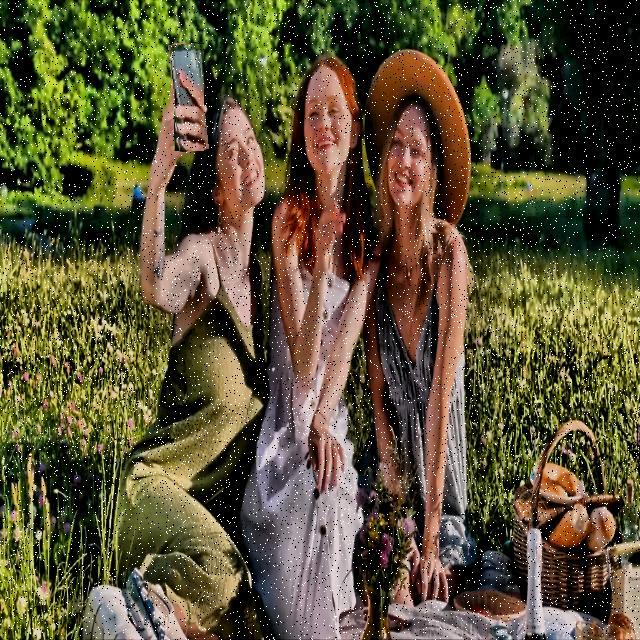Phone: (172, 42, 206, 152)
